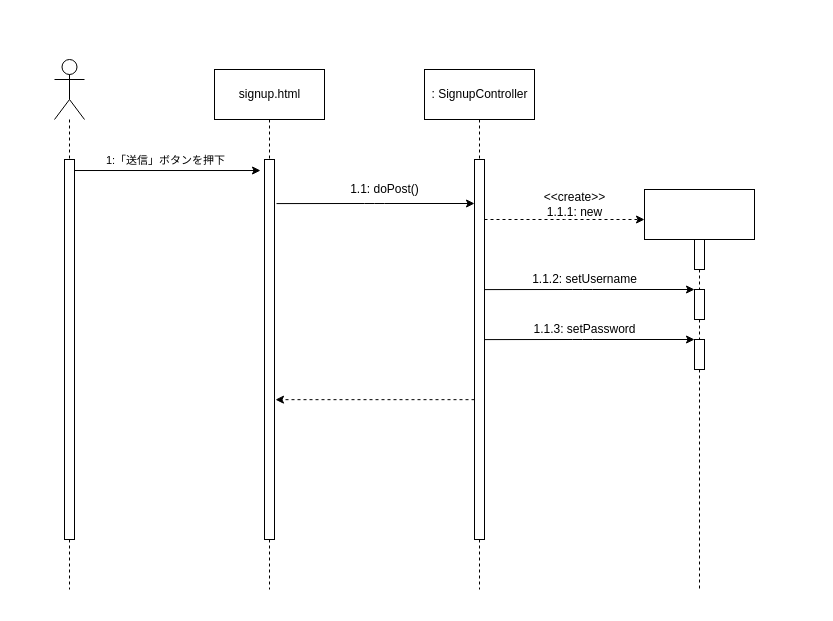
Image size: 833x621. Some labels were removed from this diagram. The shapes that lost their labels are listed below. From the top down, each one's box as (x1, y1, x2, y2) in pixels, then its label:
(54, 58, 84, 120): ：ユーザ
(644, 188, 754, 240): : UserModel
